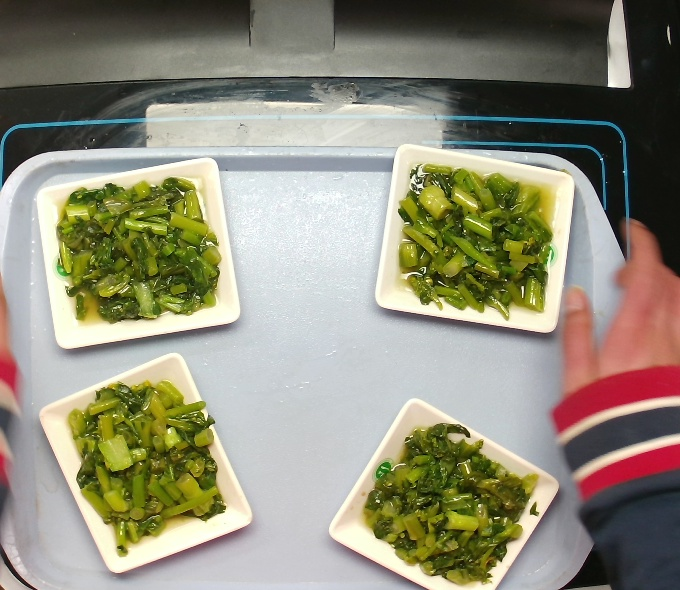wcq-YouCaiHua: (64, 376, 239, 552), (357, 420, 540, 584), (51, 170, 220, 334), (389, 161, 563, 319)
